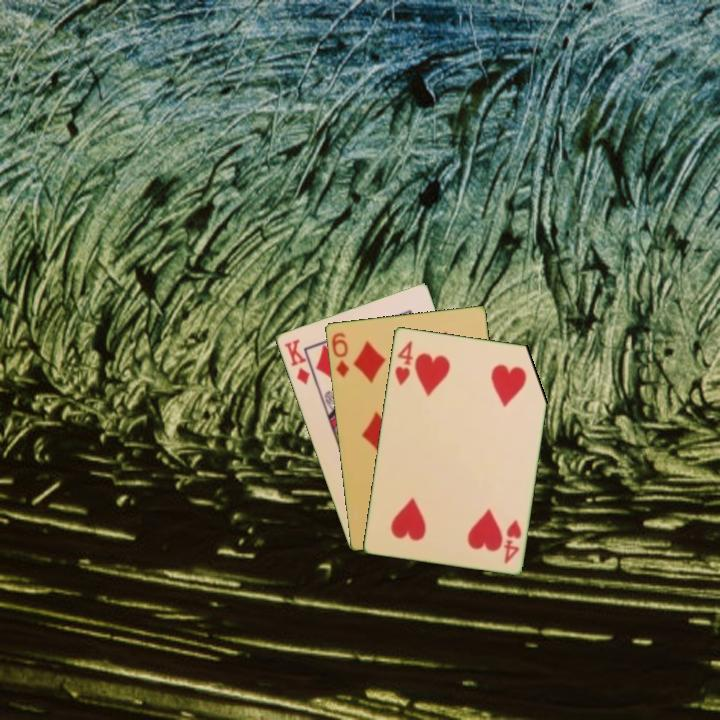4h: (391, 337, 416, 388), (500, 516, 524, 567)
6d: (328, 329, 352, 380)
Kd: (280, 335, 312, 387)
